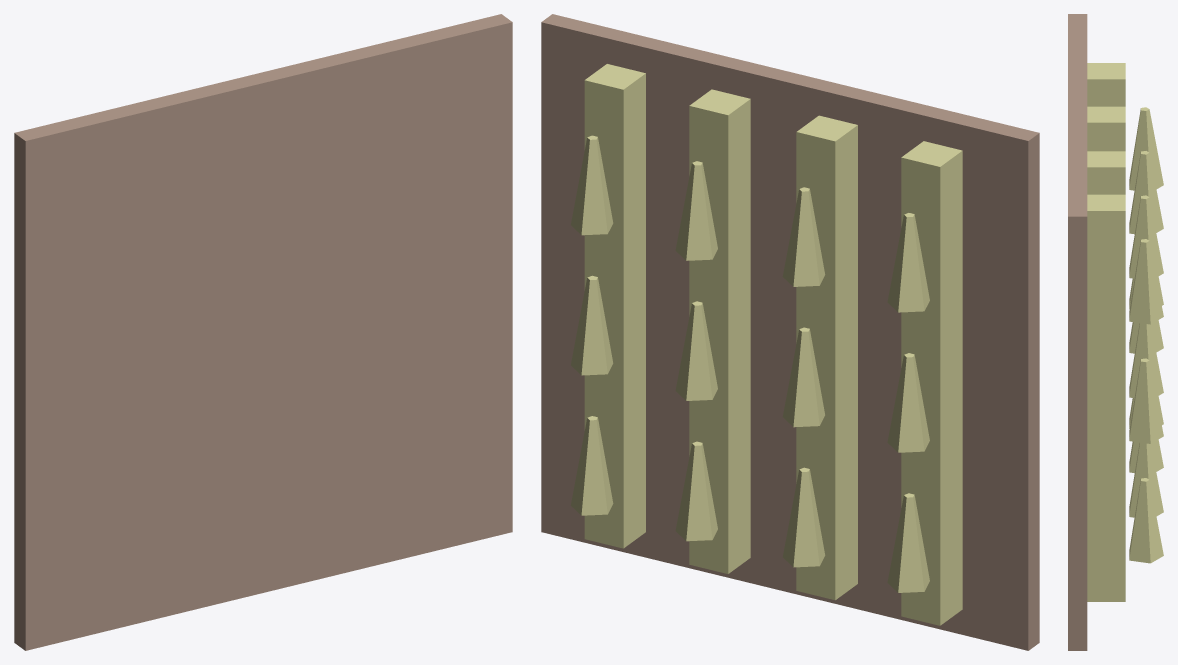
The model's file is crop-wheat.glb.
3 views of the same model, side by side, from view 1: azimuth 30°, elevation 25°; view 2: azimuth 150°, elevation 25°; view 3: azimuth 270°, elevation 25° (orthographic). The views are drawn at different scales.
Parts seen in each view (by area): view 1: crop-wheat; view 2: crop-wheat; view 3: crop-wheat.
Boxes of the visible parts, x1=… form: crop-wheat: x1=14, y1=14, x2=512, y2=650; crop-wheat: x1=541, y1=14, x2=1039, y2=650; crop-wheat: x1=1068, y1=14, x2=1163, y2=650.
Size of the model in its own units: 2 by 2 by 0.4.
